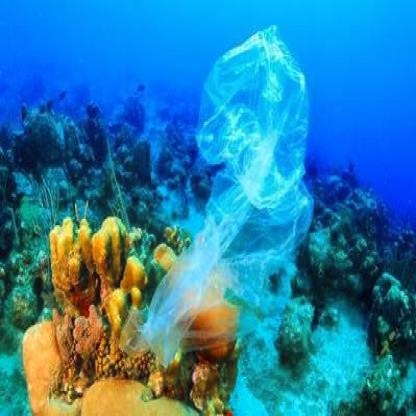pbag: (118, 19, 320, 389)
